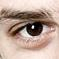eye: (27, 23, 42, 36)
